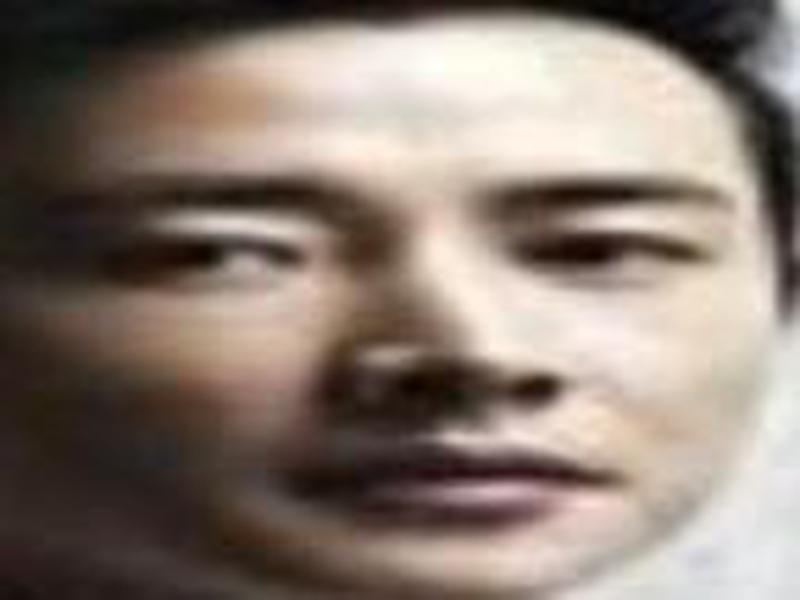without_mask: (53, 40, 753, 597)
